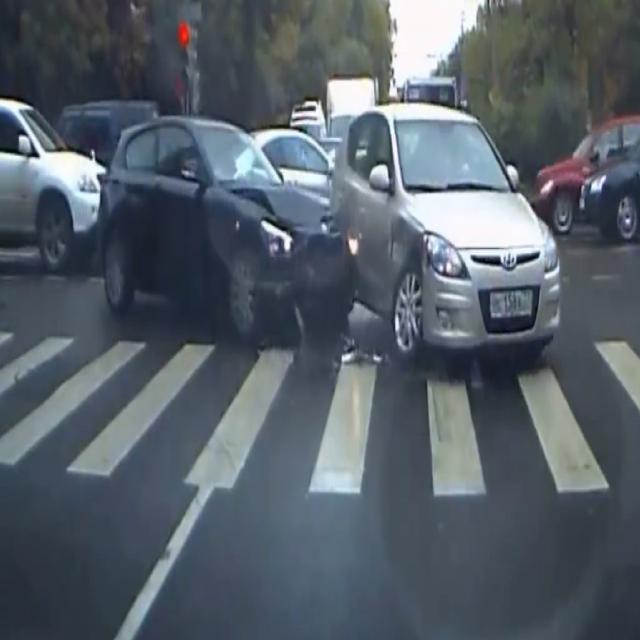accident: (125, 97, 541, 379)
